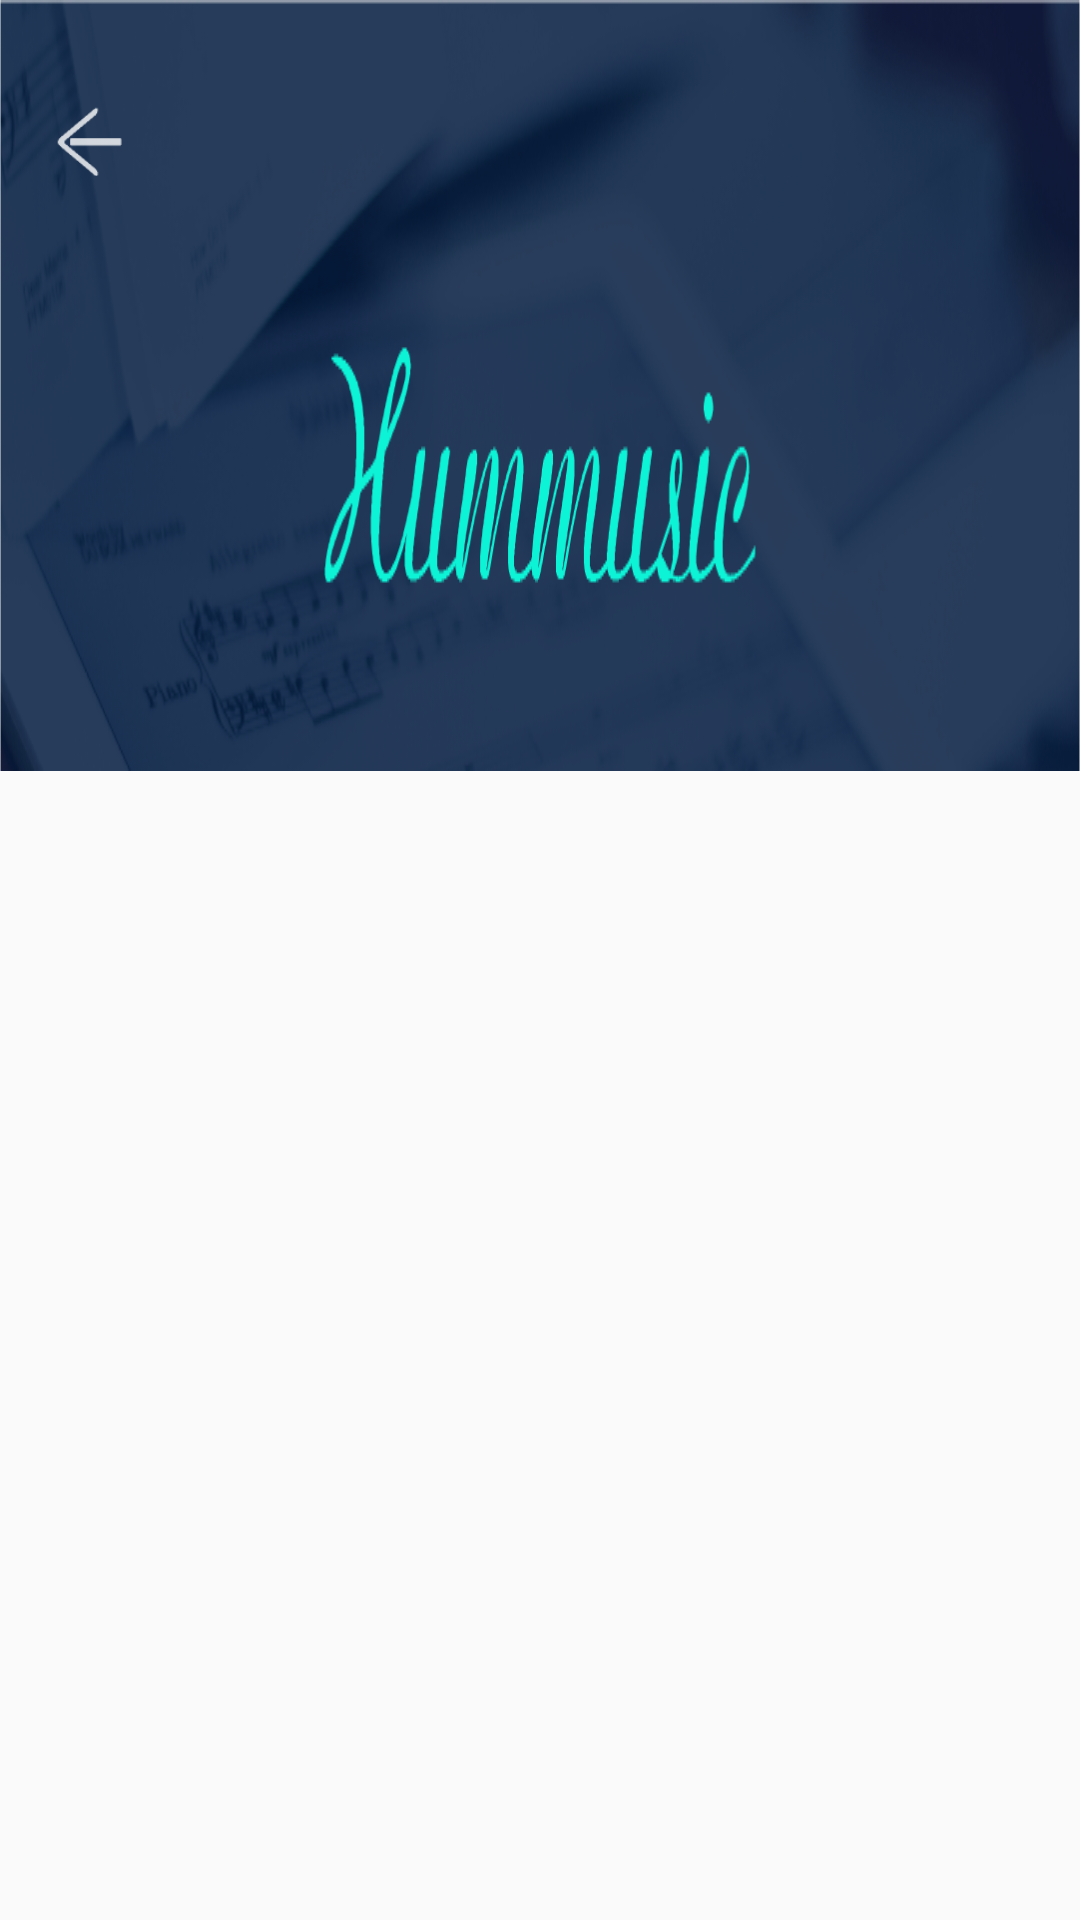

Where to tap for icons on this 1080w x 1920h app screen, as point (x, y):
back: point (89, 142)
